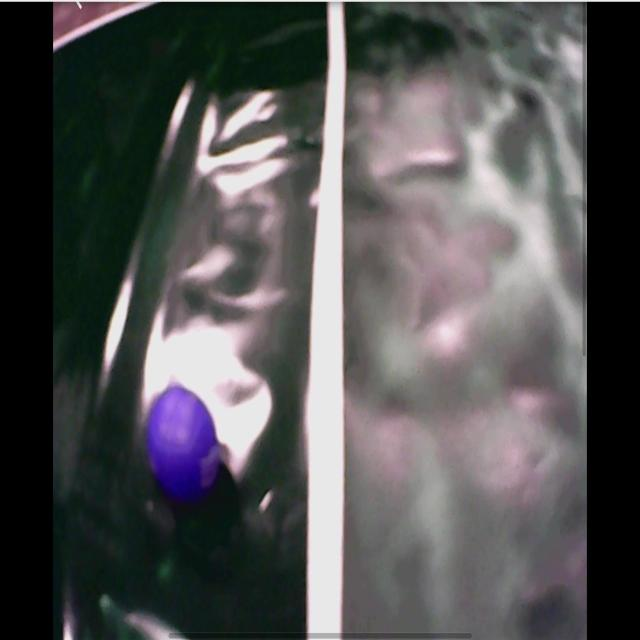ball: (148, 385, 221, 497)
